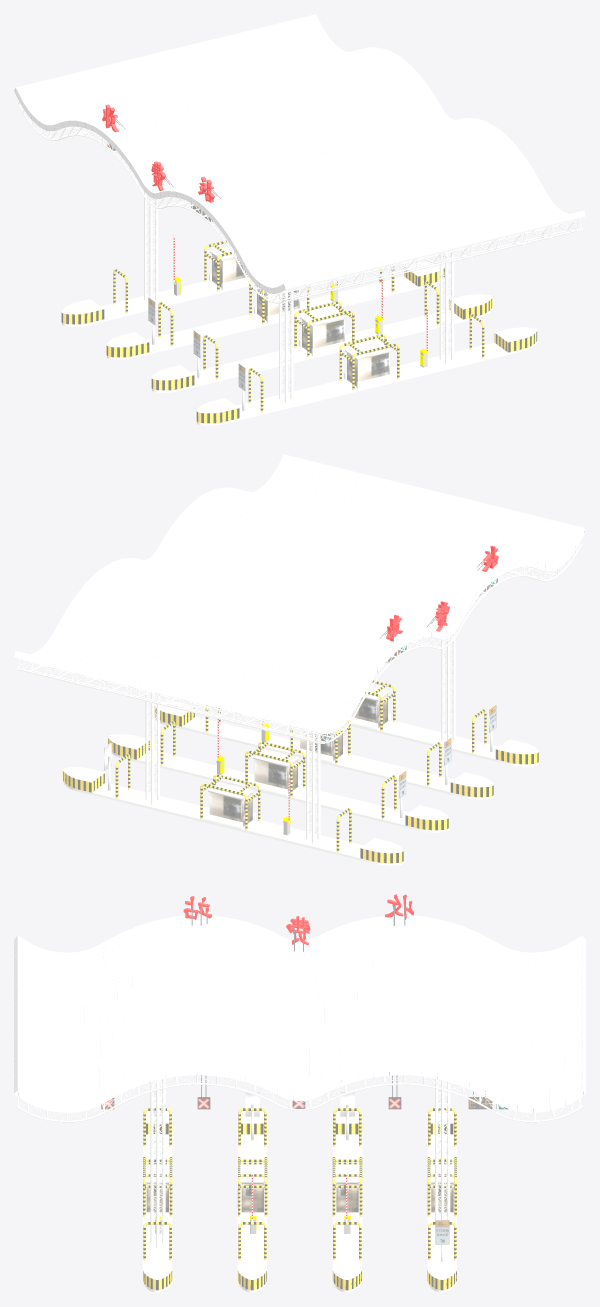
File: Toll.glb
3 renders of one model, top to bottom at view 1: azimuth 30°, elevation 25°; view 2: azimuth 150°, elevation 25°; view 3: azimuth 270°, elevation 25°, orthographic. The views are drawn at different scales.
Parts seen in each view (by area): view 1: Toll; view 2: Toll; view 3: Toll.
Part boxes in pixels (<box>): Toll: <box>14,14,585,425</box>; Toll: <box>14,454,585,865</box>; Toll: <box>14,894,585,1292</box>.
Bounding box in the file's own units: 22 × 14 × 30.5.
12 materials, 9 textured.
